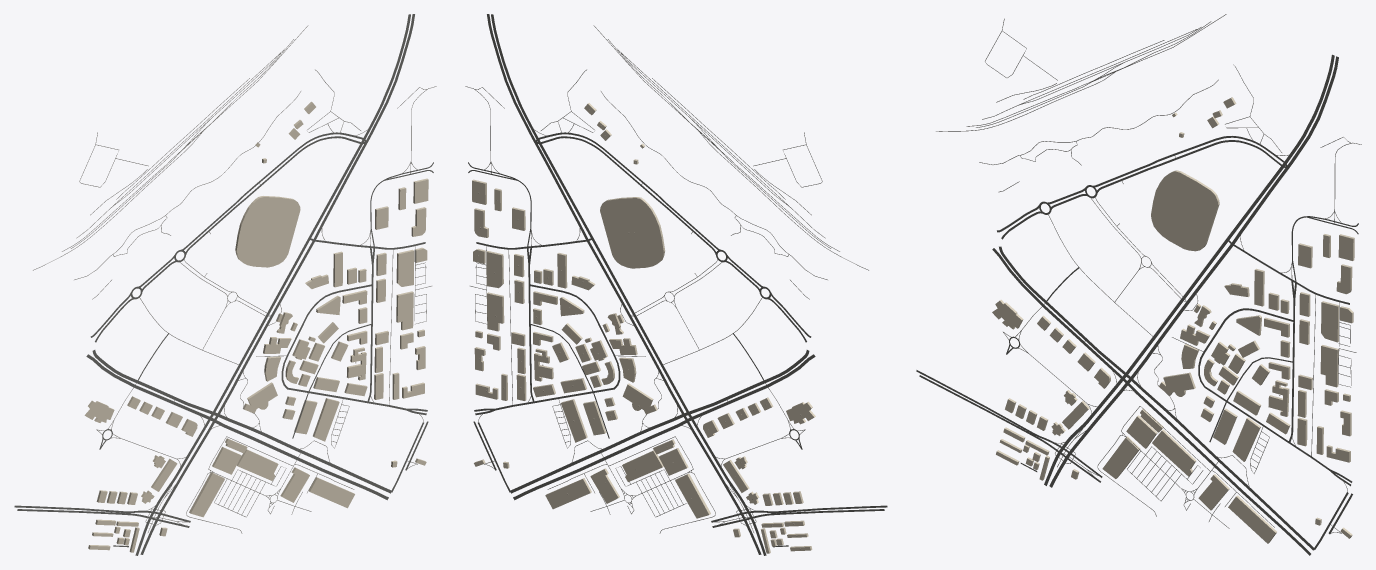
File: historic-palestine-05_24_3465_3181.glb
The picture shows the model from 3 angles, left to right: view 1: azimuth 30°, elevation 25°; view 2: azimuth 150°, elevation 25°; view 3: azimuth 330°, elevation 25°; orthographic projection. The views are drawn at different scales.
Parts seen in each view (by area): view 1: Building_.070, Road הרצל, Building_.071, Road הרצל.002, Building_.069, Building_.008, Building_, Road דוד בן גוריון, Road בן גוריון.001, Road האורגים, Road הרצל.001, Building_.006 (+5 smaller); view 2: Building_.070, Road הרצל, Building_.071, Road הרצל.002, Building_.069, Building_.008, Building_, Road דוד בן גוריון, Road בן גוריון.001, Road האורגים, Road הרצל.001, Building_.009 (+5 smaller); view 3: Building_.070, Road הרצל, Building_.071, Building_, Building_.008, Road הרצל.002, Road בן גוריון.001, Road דוד בן גוריון, Building_.069, Road האורגים, Building_.009, Building_.006 (+8 smaller).
Boxes of the visible parts, x1,y1,x2,y2 form: Building_.070: (235,196,300,267); Road הרצל: (203,14,410,428); Building_.071: (252,209,286,253); Road הרצל.002: (314,14,414,240); Building_.069: (189,472,224,517); Building_.008: (236,449,278,480); Building_: (308,477,354,508); Road דוד בן גוריון: (210,418,388,500); Road בן גוריון.001: (213,412,391,493); Road האורגים: (281,284,406,410); Road הרצל.001: (214,241,314,421); Building_.006: (396,291,413,330); Building_.070: (600,197,665,268); Road הרצל: (491,14,698,428); Building_.071: (609,211,648,255); Road הרצל.002: (487,14,587,239); Building_.069: (675,473,710,518); Building_.008: (622,450,663,481); Building_: (545,478,591,509); Road דוד בן גוריון: (513,418,691,500); Road בן גוריון.001: (510,412,688,493); Road האורגים: (495,284,620,410); Road הרצל.001: (587,240,687,421); Building_.009: (486,251,503,288); Building_.070: (1151,170,1219,251); Road הרצל: (1116,54,1334,386); Building_.071: (1167,186,1205,240); Building_: (1228,495,1276,543); Building_.008: (1152,429,1196,476); Road הרצל.002: (1232,56,1338,244); Road בן גוריון.001: (1125,374,1313,550); Road דוד בן גוריון: (1123,378,1310,555); Building_.069: (1102,436,1140,478); Road האורגים: (1198,308,1329,470); Building_.009: (1321,301,1339,342); Building_.006: (1320,345,1338,387).
Size of the model in its own units: 1235 by 1383 by 10.5.
